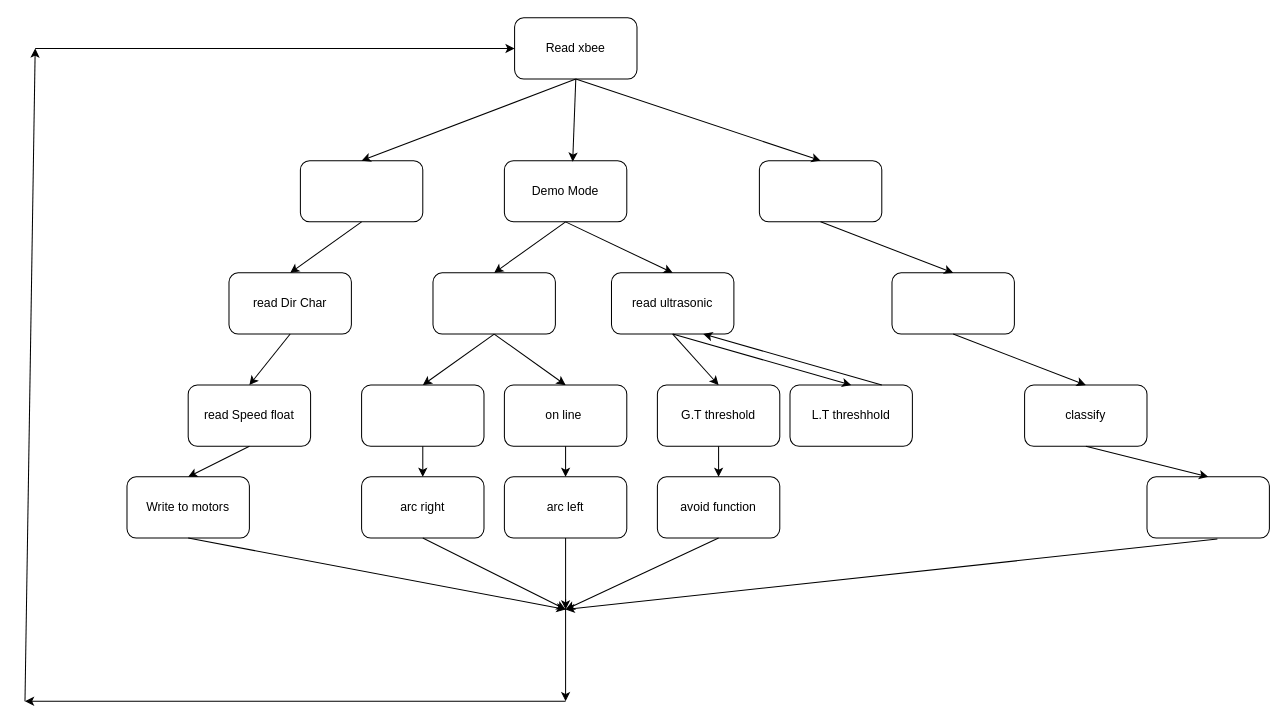
The diagram is 1287 pixels wide and 727 high, and some of its shapes have lost their labels. Here are the shapes that lost their labels. From the top down, the box of each, then its label:
(299, 160, 423, 222): Remote Mode
(758, 160, 882, 222): weather Mode
(432, 272, 555, 334): read line sensor
(891, 272, 1014, 334): read sensor
(361, 384, 484, 446): off line
(1146, 476, 1269, 538): DANCE!!!!!!!!!
